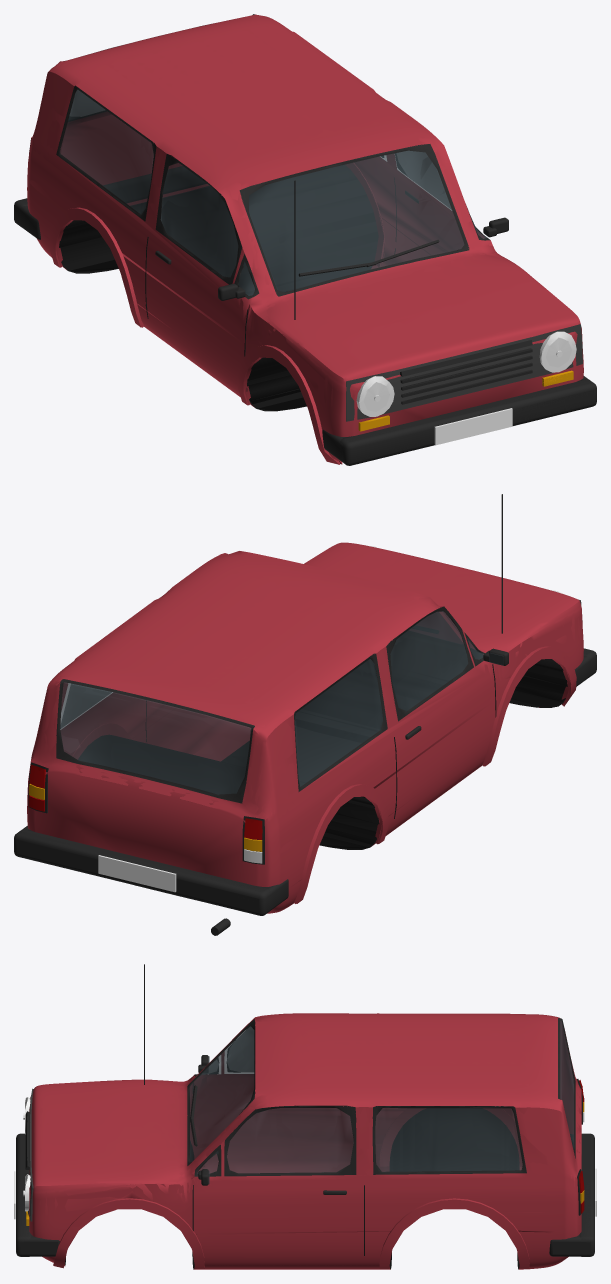
Rendered from niva.glb.
The picture shows the model from 3 angles, top to bottom: view 1: azimuth 30°, elevation 25°; view 2: azimuth 150°, elevation 25°; view 3: azimuth 270°, elevation 25°; orthographic projection. The views are drawn at different scales.
Parts seen in each view (by area): view 1: LOD_hi, LOD0; view 2: LOD_hi, LOD0; view 3: LOD_hi, LOD0.
Boxes of the visible parts, x1,y1,x2,y2 form: LOD_hi: (14,14,596,465); LOD0: (20,14,594,464); LOD_hi: (14,494,596,932); LOD0: (16,494,589,935); LOD_hi: (14,964,596,1269); LOD0: (14,1014,596,1268).
Size of what is drawn, in the model's own units: 1.95 by 1.72 by 3.95.
